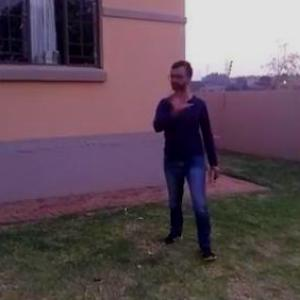follow_hand: (165, 85, 194, 113)
